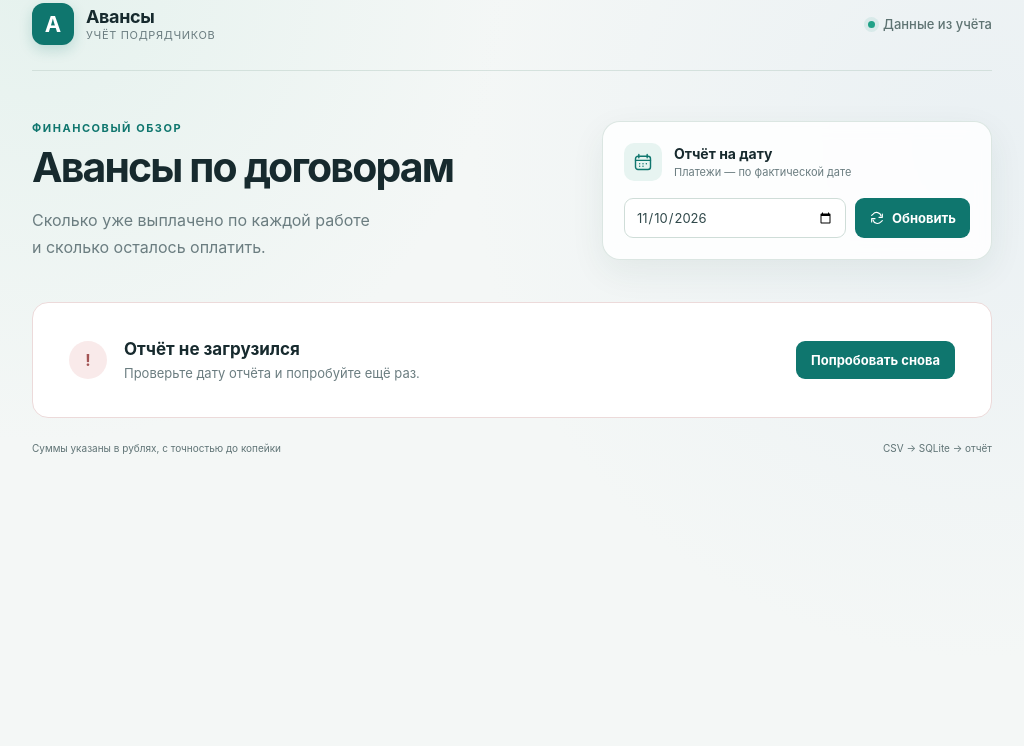
it: App › shows a validation error and recovers with retry
Expected: the message shows "Проверьте дату отчёта", [124, 365, 420, 381]
Click the button "Попробовать снова" at {"x": 876, "y": 360}, box [796, 341, 955, 379]
(page scrolled)
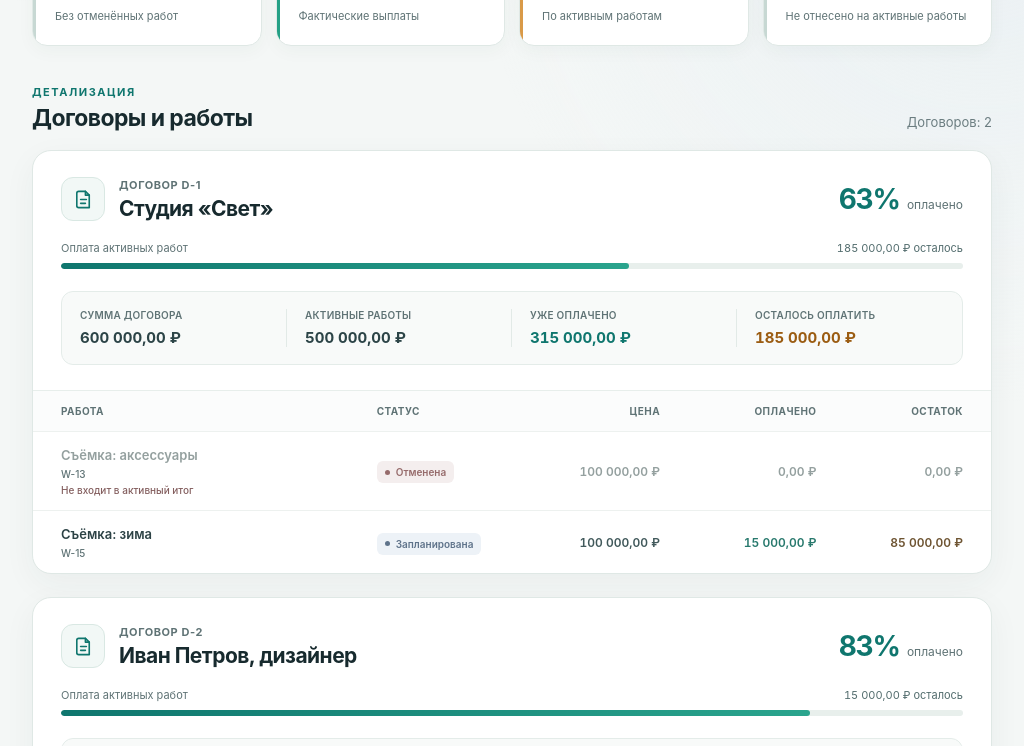
Expected: the element "Студия «Свет»" is shown, [32, 150, 992, 574]
